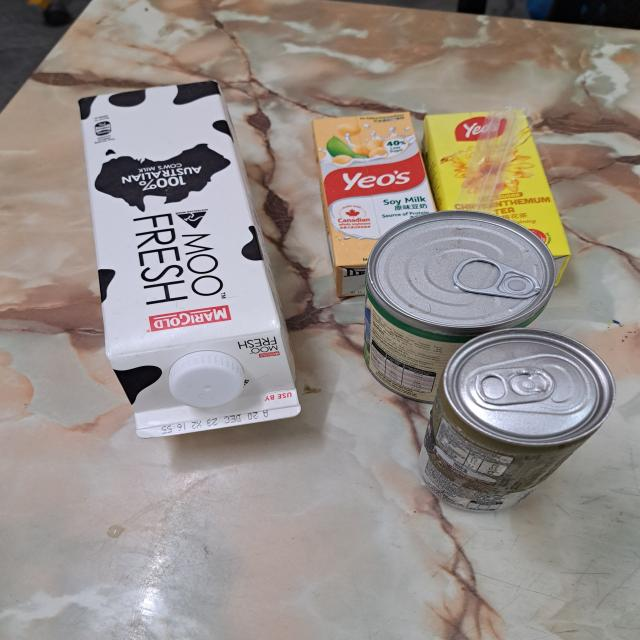can: (370, 211, 557, 403), (425, 330, 613, 512)
drink carton: (80, 78, 304, 440), (423, 111, 571, 286), (314, 112, 438, 298)
plastic bottle cap: (167, 349, 246, 406)
pop tab: (453, 254, 544, 301), (466, 363, 556, 406)
